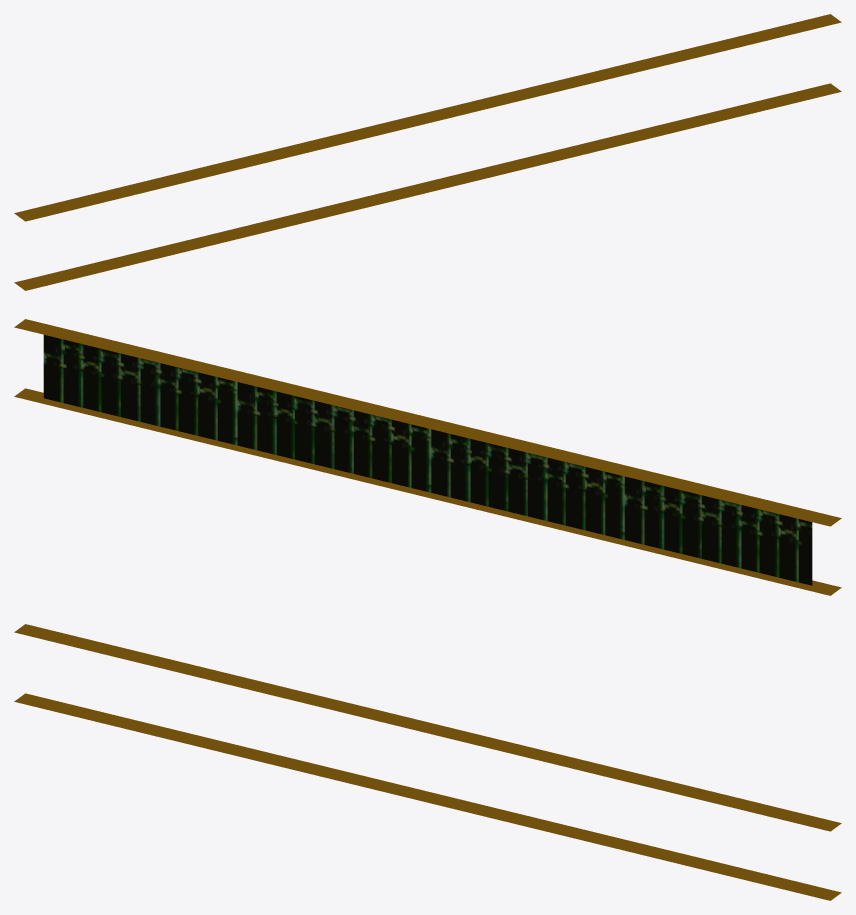
The model's file is Geländer4_636.glb.
3 renders of one model, top to bottom at view 1: azimuth 30°, elevation 25°; view 2: azimuth 150°, elevation 25°; view 3: azimuth 330°, elevation 25°, orthographic.
Visible parts, largest first — view 1: pPlaneShape224, pPlaneShape225; view 2: pPlaneShape223, pPlaneShape224, pPlaneShape225; view 3: pPlaneShape224, pPlaneShape225.
Part boxes in pixels (x1,y1,x2,y2): pPlaneShape224: [14, 14, 841, 221]; pPlaneShape225: [14, 83, 841, 290]; pPlaneShape223: [43, 335, 812, 585]; pPlaneShape224: [14, 319, 841, 526]; pPlaneShape225: [14, 388, 841, 595]; pPlaneShape224: [14, 624, 841, 831]; pPlaneShape225: [14, 693, 841, 900].
Size of the model in its own units: 1 by 0.0811 by 0.0243.
Materials: 3 (1 with a texture image).
